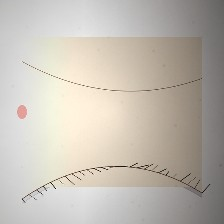corneal_ulcer: (84, 94, 151, 147)
